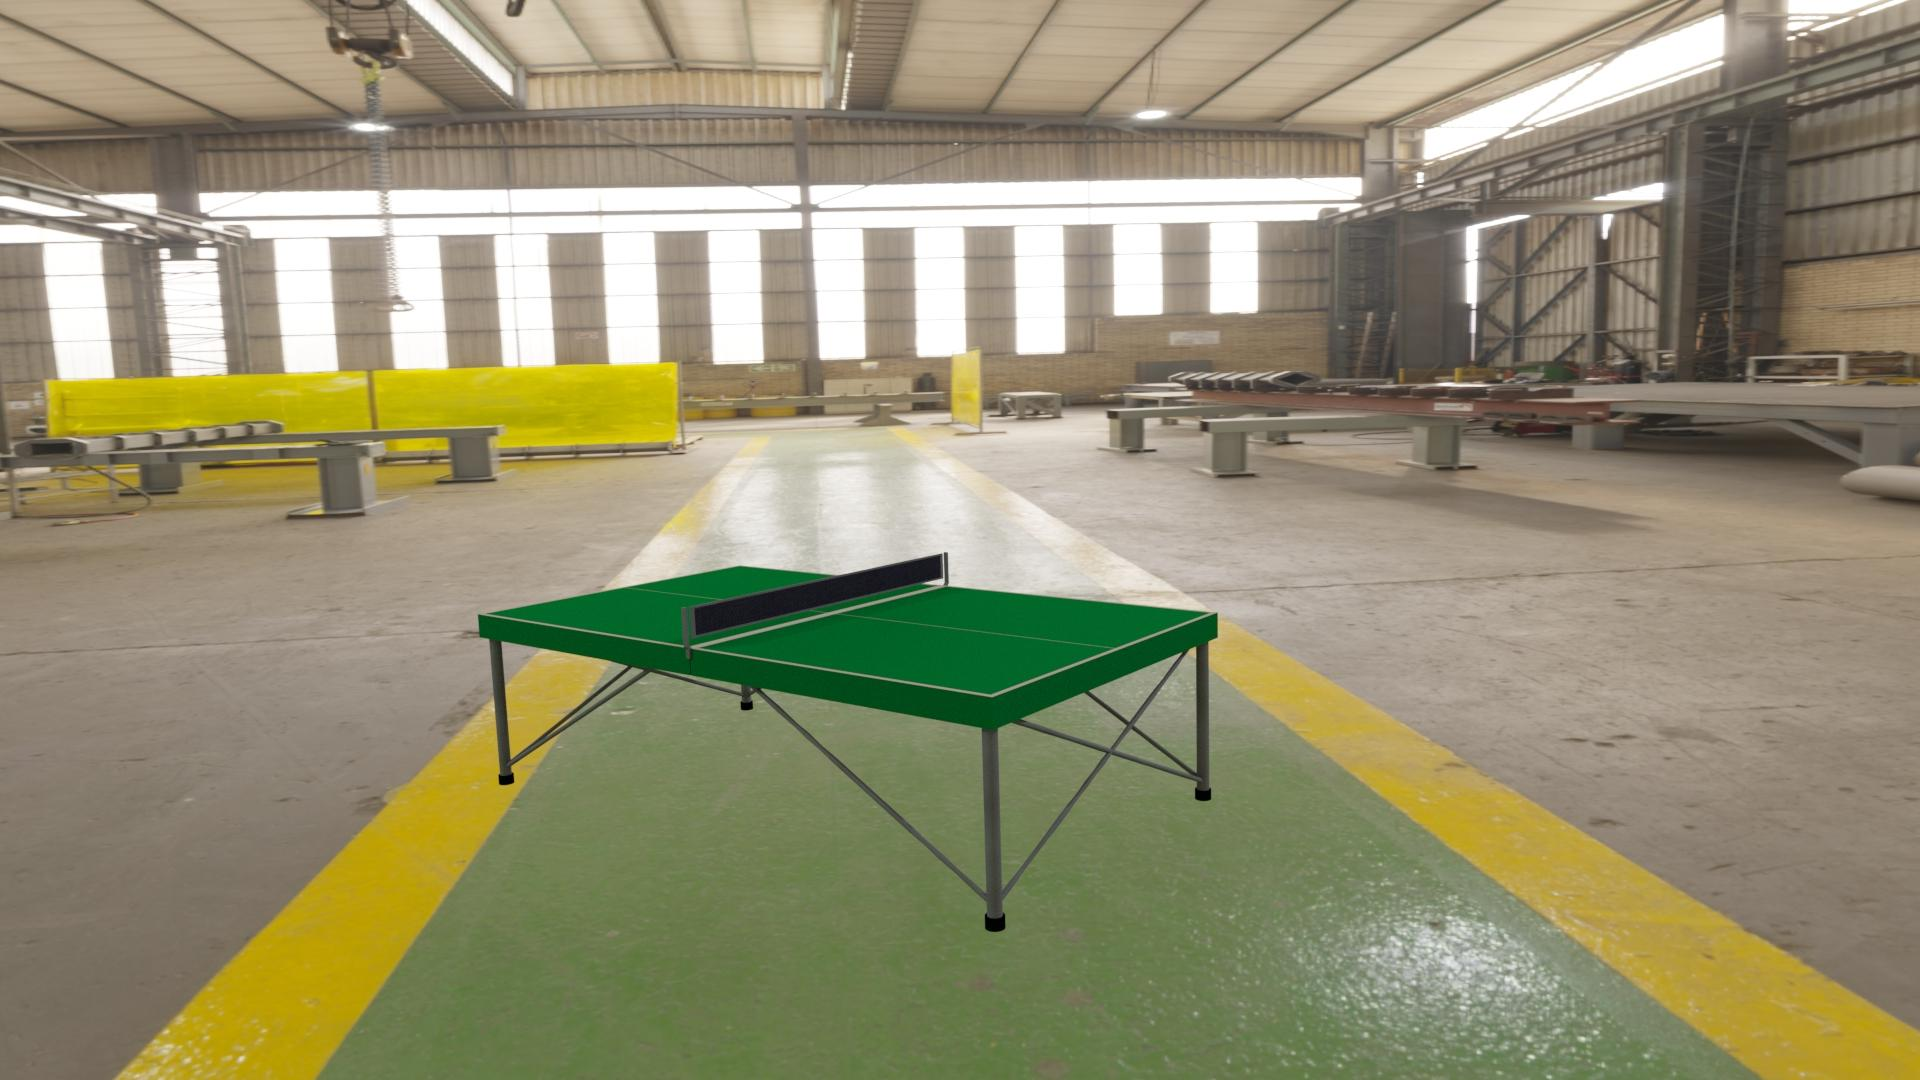table: (484, 566, 1211, 695)
